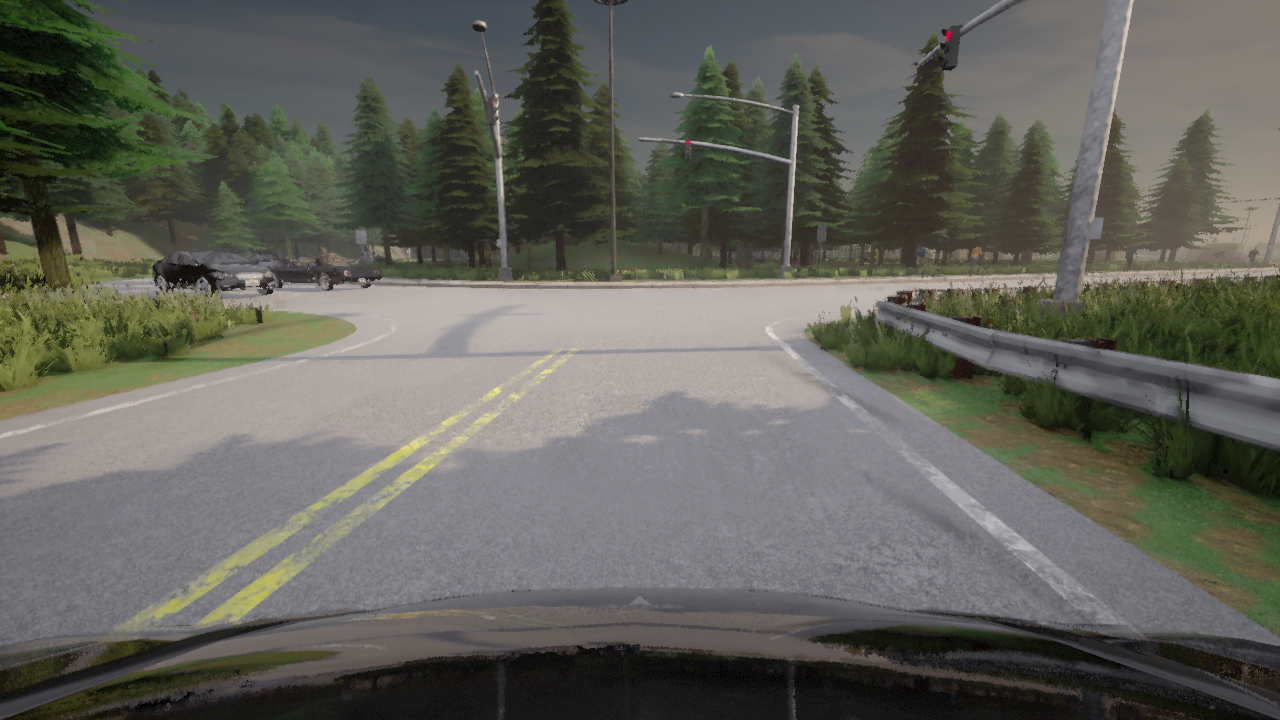cyclist: (0, 588, 1279, 719), (152, 250, 275, 296), (266, 256, 382, 290), (248, 250, 293, 266), (1196, 252, 1248, 262), (359, 252, 392, 263), (451, 251, 466, 260), (743, 253, 759, 258), (318, 252, 342, 255)
pedestrian: (913, 242, 931, 278), (969, 241, 982, 276), (1123, 244, 1138, 272), (1245, 246, 1260, 269), (793, 255, 801, 280), (919, 257, 928, 277), (1085, 248, 1091, 263)
